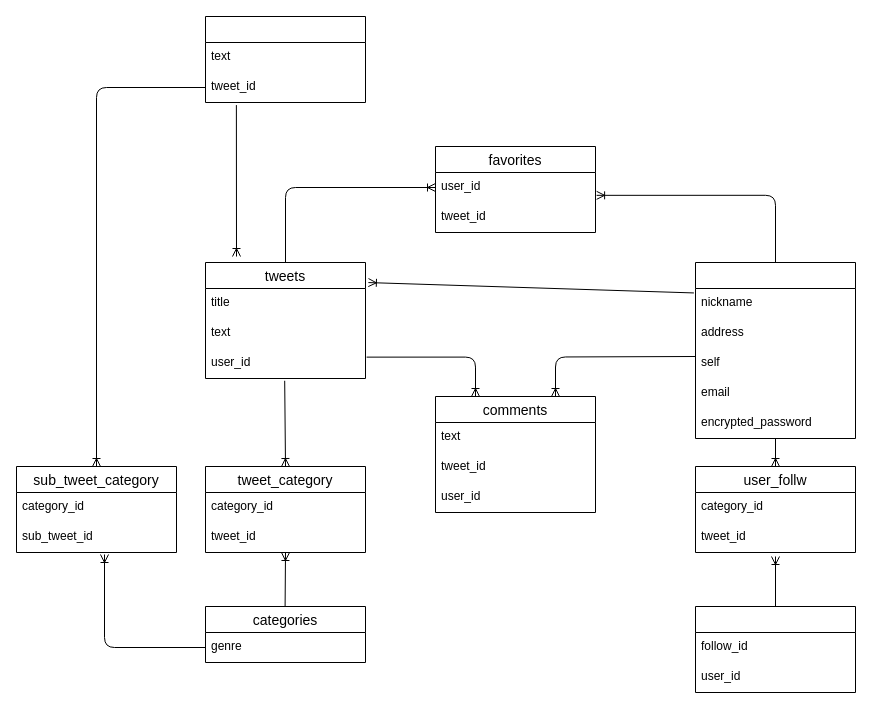
This 872x709 diagram has some shape labels left out. Here are the shapes that lost their labels. From the top down, the box of each, then its label:
(204, 16, 366, 102): sub_tweets
(694, 262, 856, 438): users
(694, 606, 856, 692): follws
